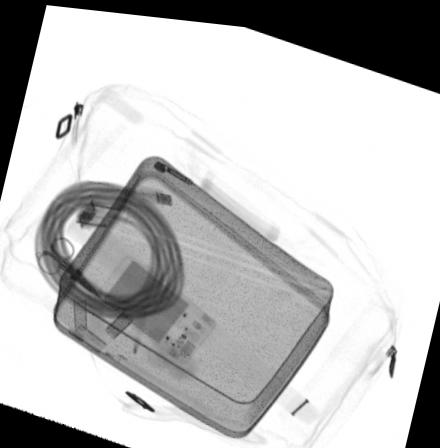Powerbank: (91, 249, 220, 362)
Scissors: (35, 236, 102, 296)
